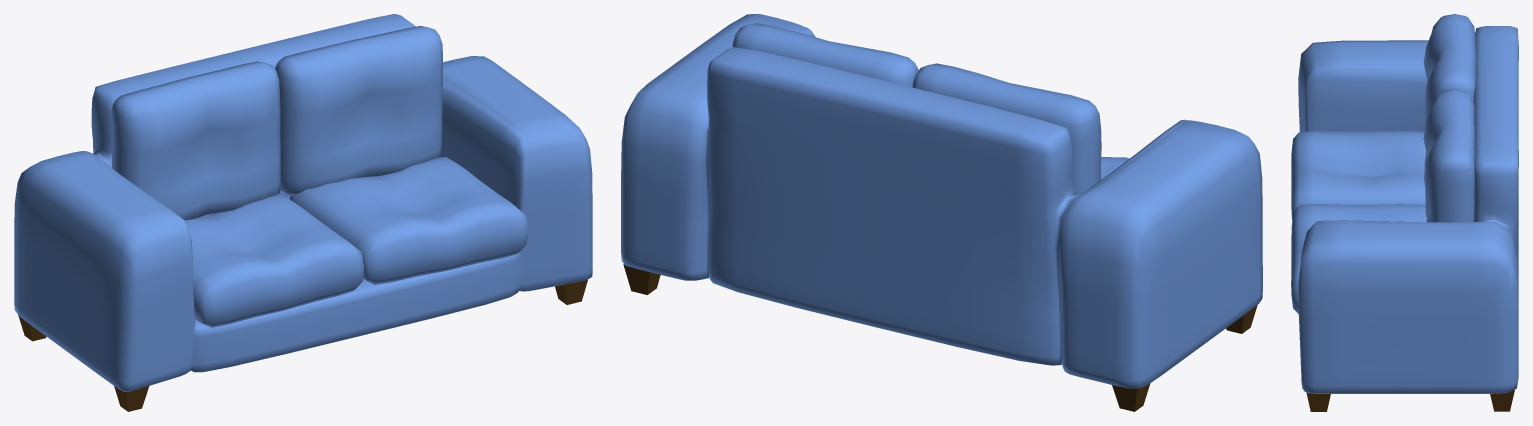
File: sohva.fbx
3 renders of one model, left to right at view 1: azimuth 30°, elevation 25°; view 2: azimuth 150°, elevation 25°; view 3: azimuth 270°, elevation 25°, orthographic. The views are drawn at different scales.
Parts seen in each view (by area): view 1: sohva; view 2: sohva; view 3: sohva.
Boxes of the visible parts, x1=… form: sohva: x1=14, y1=14, x2=592, y2=411; sohva: x1=621, y1=14, x2=1262, y2=411; sohva: x1=1291, y1=14, x2=1518, y2=411.
Size of the model in its own units: 1218 by 591 by 540.
